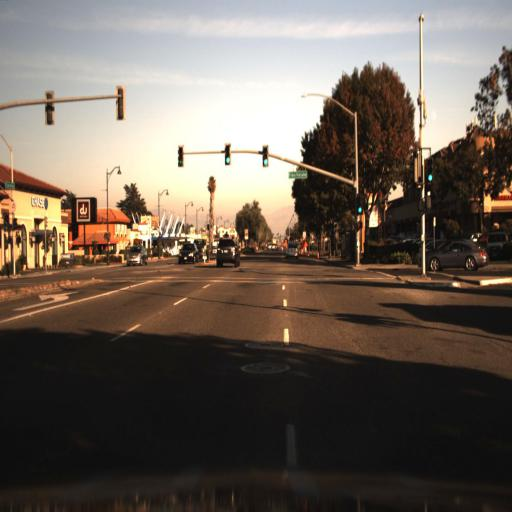car: (420, 235, 491, 277), (213, 230, 246, 270), (124, 240, 148, 270), (194, 233, 210, 264), (281, 240, 302, 263), (177, 240, 196, 264)
trafficLight-Green: (354, 191, 364, 219), (356, 190, 365, 220), (223, 152, 231, 172), (261, 155, 268, 171)
